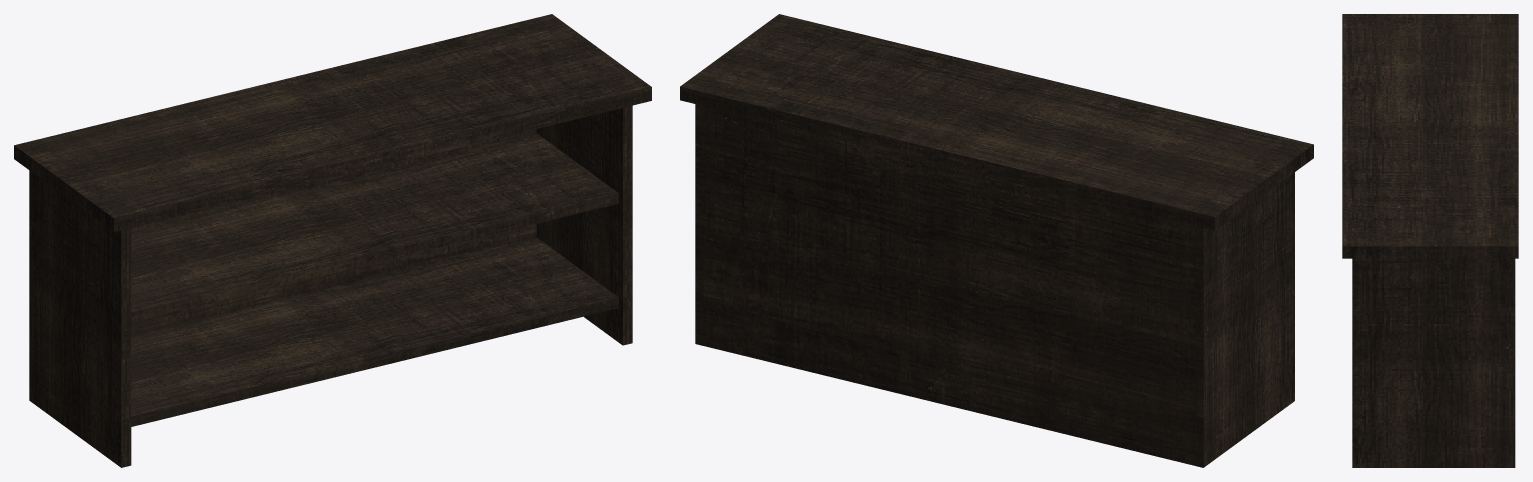
Rendered from tv_table_1_2.glb.
The picture shows the model from 3 angles, left to right: view 1: azimuth 30°, elevation 25°; view 2: azimuth 150°, elevation 25°; view 3: azimuth 270°, elevation 25°; orthographic projection. The views are drawn at different scales.
Visible parts, largest first — view 1: tv_table_1_2; view 2: tv_table_1_2; view 3: tv_table_1_2.
Part boxes in pixels (bbox=[...]): tv_table_1_2: bbox=[14, 14, 651, 467]; tv_table_1_2: bbox=[680, 14, 1313, 467]; tv_table_1_2: bbox=[1342, 14, 1518, 467].
Size of the model in its own units: 1.62 by 0.74 by 0.52.
1 material, 1 textured.
